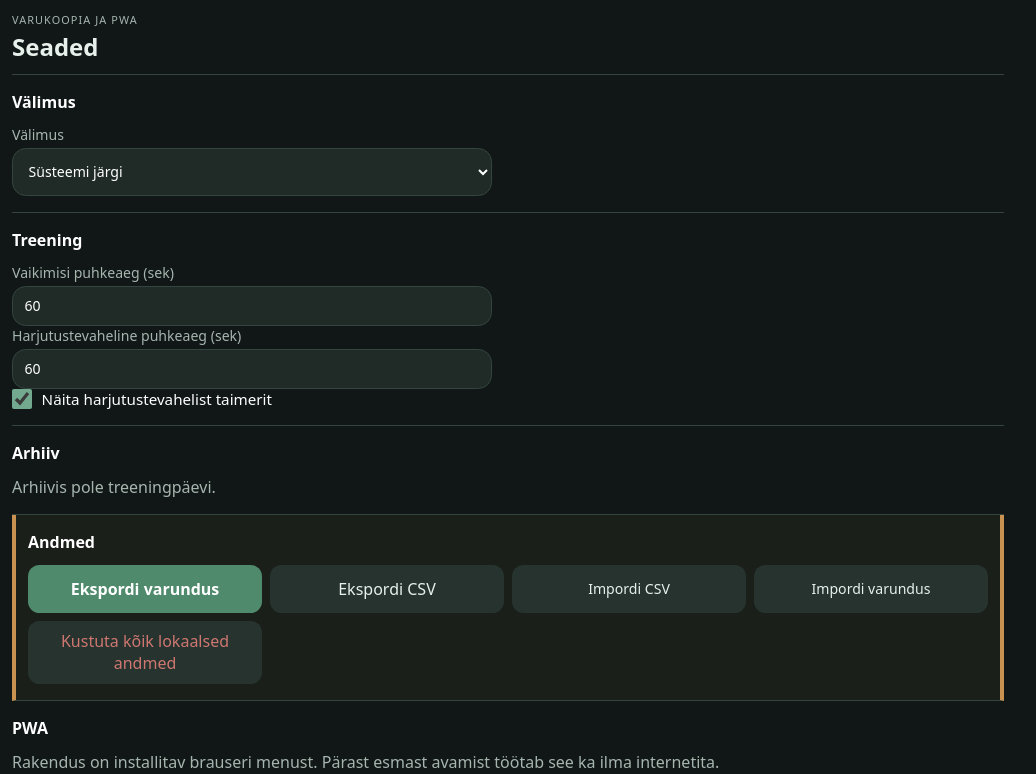
it: SettingsPage › confirms a successful backup export
Click the button "Ekspordi varundus".
click(145, 589)  # box [28,565,262,613]
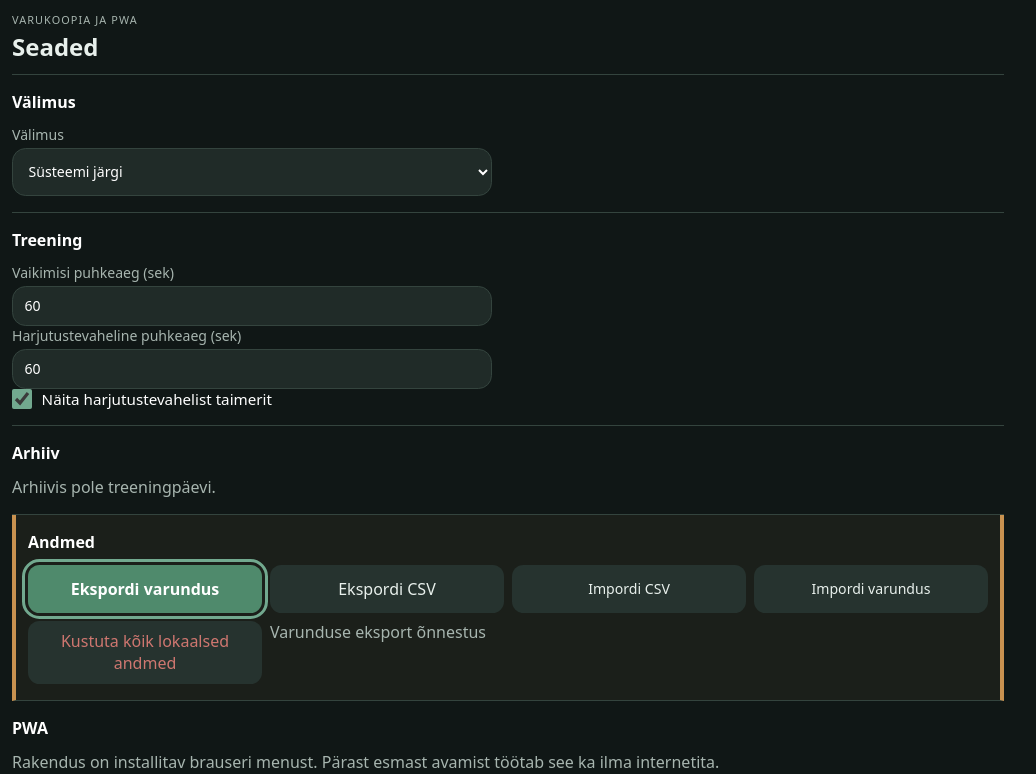
Check: the message reads "Varunduse eksport õnnestus", box [270,621,486,643]
